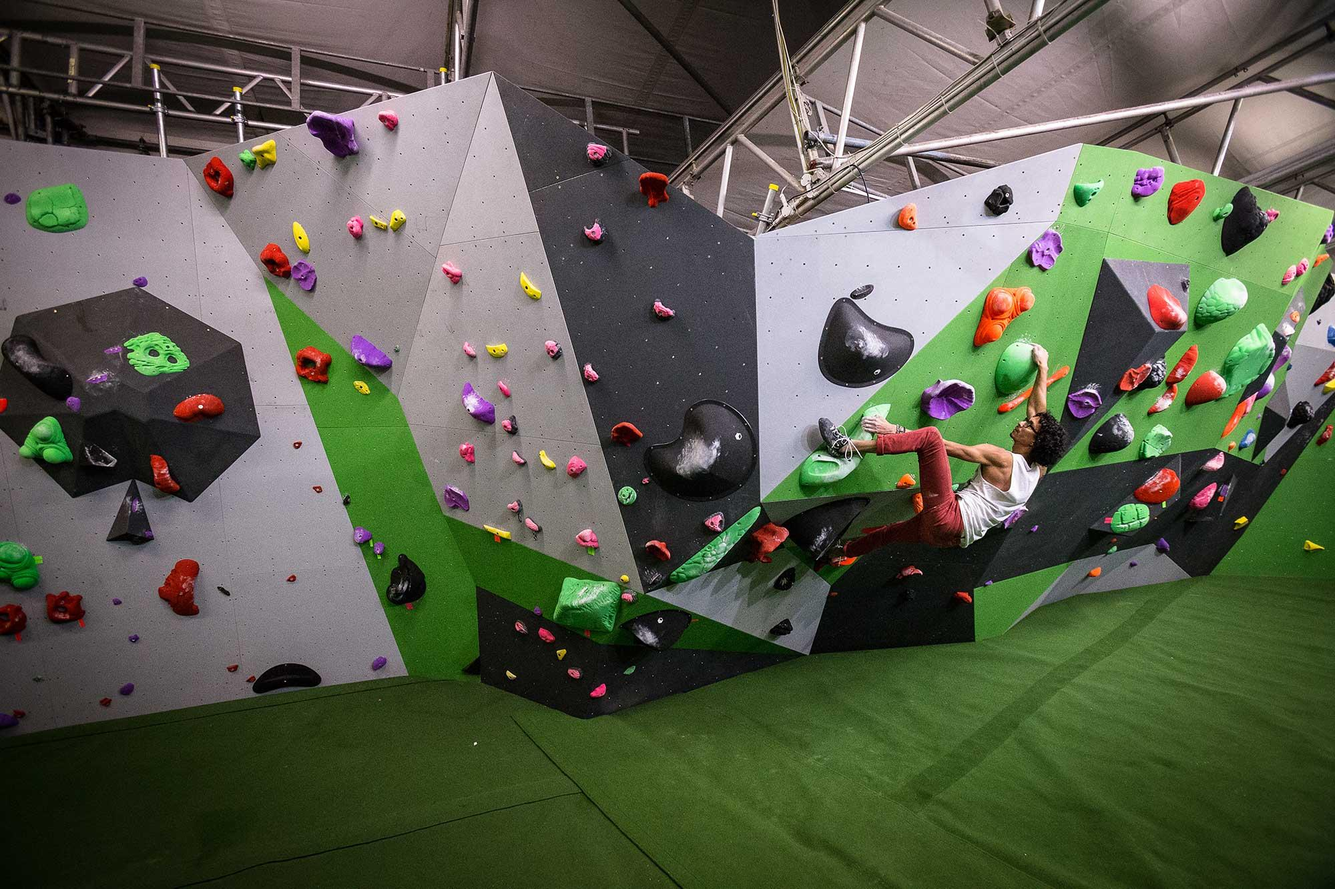black-hold: (634, 384, 778, 529), (799, 292, 921, 411), (790, 392, 909, 504), (667, 493, 767, 596), (778, 466, 875, 563), (1199, 318, 1288, 413), (954, 269, 1042, 355), (0, 325, 82, 409), (617, 584, 695, 660), (1199, 183, 1276, 258), (1182, 269, 1255, 331), (10, 413, 75, 478), (552, 576, 623, 634), (21, 181, 91, 239), (996, 364, 1073, 416), (122, 327, 192, 381), (1153, 168, 1212, 230), (989, 337, 1045, 402), (299, 108, 366, 162), (1079, 410, 1141, 467), (1137, 277, 1192, 339), (382, 551, 435, 613), (1177, 366, 1231, 419), (741, 514, 792, 570), (1129, 464, 1186, 514), (1253, 344, 1296, 406), (249, 659, 323, 695), (342, 331, 396, 380), (919, 377, 977, 422), (451, 381, 503, 431), (1022, 225, 1072, 275), (196, 154, 244, 204), (158, 559, 200, 616), (169, 388, 227, 428), (1162, 341, 1206, 393), (141, 450, 182, 500), (1132, 421, 1177, 466), (255, 239, 298, 285), (0, 541, 40, 589), (1066, 168, 1107, 211), (1300, 271, 1335, 321), (1106, 499, 1154, 535), (292, 344, 334, 385), (43, 588, 87, 627), (1114, 357, 1156, 397), (1064, 382, 1106, 422), (1146, 380, 1183, 423), (981, 181, 1021, 220), (286, 255, 325, 295), (1137, 355, 1175, 396), (606, 416, 645, 455), (1280, 397, 1319, 436), (78, 439, 119, 476), (1218, 398, 1251, 441), (437, 482, 476, 518), (1187, 479, 1224, 516), (579, 214, 614, 250), (638, 171, 670, 209), (250, 138, 284, 171), (770, 563, 803, 597), (513, 272, 545, 304), (581, 140, 614, 171), (644, 533, 676, 564), (1132, 167, 1163, 198), (573, 526, 604, 557), (288, 219, 313, 257), (646, 297, 678, 326), (374, 103, 404, 133), (0, 603, 27, 636), (700, 506, 730, 535), (1199, 450, 1230, 478), (1309, 359, 1335, 392), (343, 212, 371, 242), (438, 258, 466, 286), (561, 454, 589, 482), (999, 504, 1029, 529), (614, 482, 641, 509), (766, 617, 795, 642), (235, 147, 261, 174), (383, 207, 409, 234), (541, 336, 567, 362), (1238, 388, 1259, 420), (1236, 427, 1259, 455), (847, 281, 876, 303), (499, 413, 524, 438), (1209, 201, 1237, 223), (894, 471, 918, 496), (535, 448, 558, 474), (481, 523, 514, 541), (1314, 422, 1335, 450), (897, 203, 918, 229), (1279, 263, 1300, 289), (578, 361, 600, 385), (351, 376, 373, 399), (535, 625, 557, 647), (521, 515, 544, 536), (587, 682, 610, 701), (1301, 539, 1325, 557), (507, 449, 528, 469), (893, 564, 923, 578), (1309, 250, 1331, 269), (1293, 257, 1312, 279), (485, 342, 508, 360), (458, 441, 475, 465), (1319, 223, 1335, 248), (459, 340, 478, 361), (366, 215, 389, 232), (369, 653, 389, 672), (494, 379, 513, 399), (511, 618, 531, 637), (953, 588, 975, 605), (1230, 514, 1250, 532), (0, 713, 19, 731), (354, 526, 372, 545), (646, 571, 664, 590), (1153, 537, 1171, 556), (3, 191, 23, 208), (505, 498, 525, 515), (84, 373, 109, 386), (118, 681, 137, 698), (566, 664, 585, 681), (911, 492, 925, 515), (64, 396, 82, 413), (1264, 206, 1282, 223), (1279, 322, 1296, 339), (1319, 379, 1335, 396), (621, 589, 639, 604), (1085, 566, 1103, 580), (622, 663, 638, 678), (554, 646, 569, 661), (216, 584, 232, 598), (132, 276, 149, 288), (839, 557, 859, 567), (1327, 325, 1335, 348), (98, 695, 112, 708), (503, 669, 517, 682), (1224, 440, 1238, 453), (103, 346, 123, 355), (11, 708, 26, 720), (127, 632, 140, 645), (341, 494, 353, 507), (1181, 277, 1190, 293), (373, 542, 384, 555), (32, 674, 45, 684), (1290, 311, 1300, 324), (1219, 484, 1229, 497), (0, 398, 8, 414), (312, 484, 323, 495), (131, 496, 138, 512), (246, 675, 257, 685), (226, 664, 239, 672), (293, 440, 303, 450), (1107, 546, 1118, 555), (533, 607, 543, 616), (1030, 523, 1039, 533), (620, 574, 629, 583), (1129, 559, 1138, 568), (112, 597, 122, 605), (641, 477, 649, 485), (287, 575, 296, 582), (984, 580, 993, 587), (145, 531, 154, 537), (1316, 319, 1323, 326), (1287, 362, 1292, 371), (1256, 414, 1262, 419), (1281, 469, 1286, 475), (1111, 539, 1117, 542)
